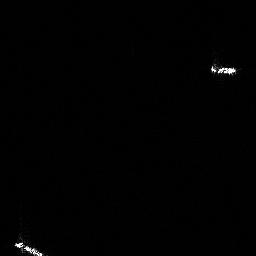ship: (11, 238, 45, 256), (208, 62, 239, 77)
